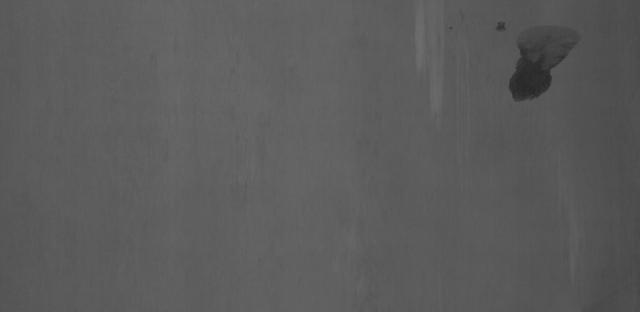oil_spot: (494, 16, 581, 106)
